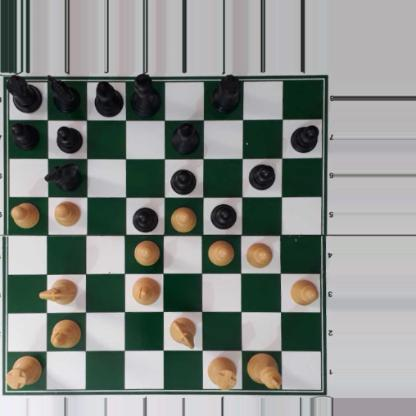black-bishop: (94, 80, 124, 117), (172, 121, 199, 154)
black-king: (130, 73, 161, 115)
black-knight: (49, 73, 79, 113), (44, 162, 80, 190)
black-pawn: (290, 124, 319, 154), (11, 121, 39, 149), (248, 162, 275, 190), (170, 168, 197, 195), (210, 202, 237, 229), (56, 124, 81, 153), (132, 206, 159, 232)
black-rook: (5, 72, 42, 113), (210, 74, 242, 113)
white-bishop: (50, 318, 82, 351), (131, 276, 161, 305)
white-king: (246, 351, 282, 390)
white-knight: (38, 278, 77, 306), (168, 316, 197, 348)
white-pawn: (288, 278, 319, 306), (245, 240, 273, 269), (53, 200, 81, 227), (11, 202, 40, 228), (133, 238, 160, 265), (168, 206, 197, 231), (207, 240, 234, 266)
white-rook: (5, 355, 42, 388), (207, 357, 237, 389)
